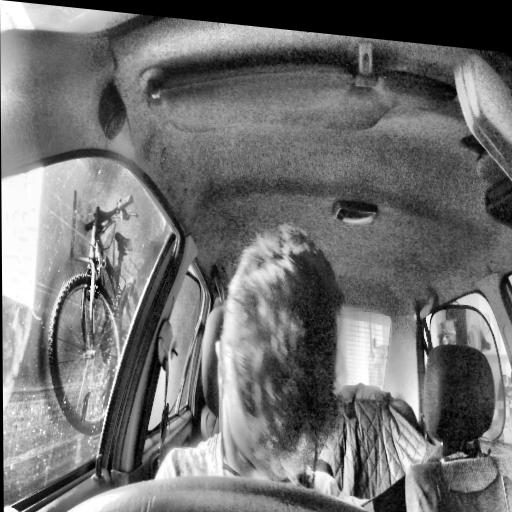drowsy: (213, 215, 348, 512)
